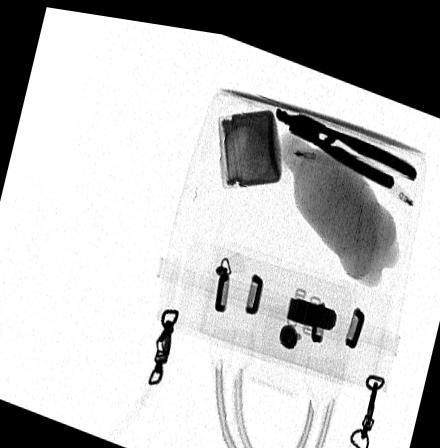Pliers: (273, 94, 418, 177)
